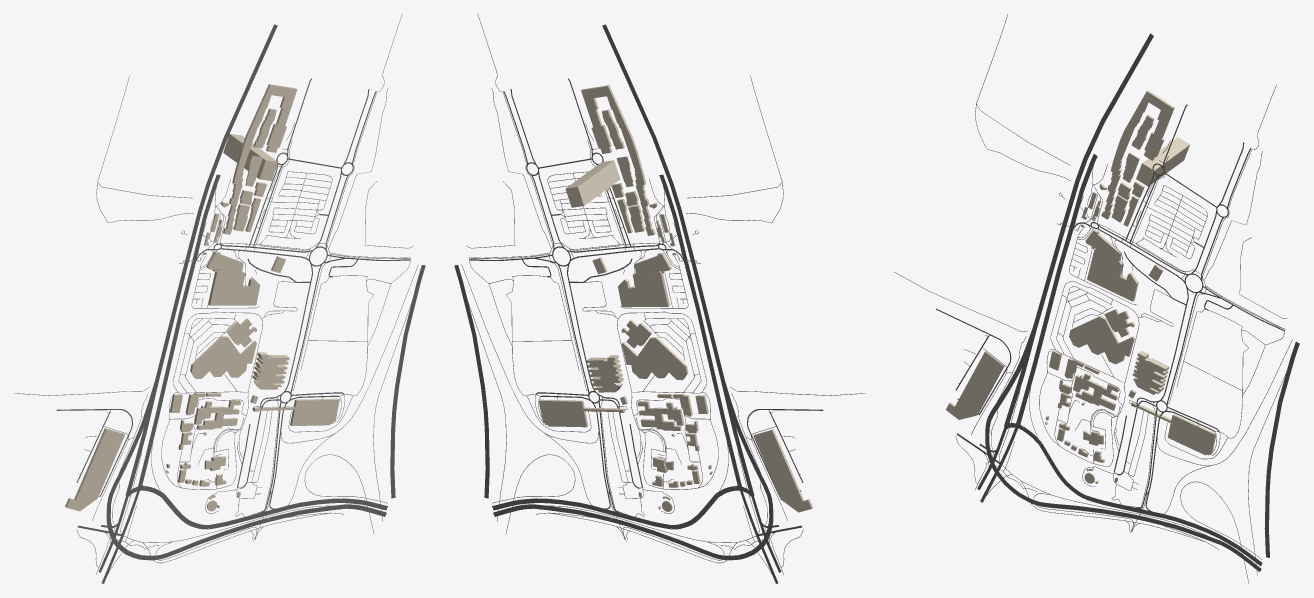
Rendered from historic-palestine-06_27_3480_3214.glb.
The picture shows the model from 3 angles, left to right: view 1: azimuth 30°, elevation 25°; view 2: azimuth 150°, elevation 25°; view 3: azimuth 330°, elevation 25°; orthographic projection.
Parts seen in each view (by area): view 1: Building_.042, Building_, Building_.009, Building_.016, Building_.001, Road איילון דרום, Building_.040, Road דרך תל-אביב.007, Building_.041, Building_.031, Road 5.011, Road 5.009 (+1 smaller); view 2: Building_.042, Building_, Building_.009, Building_.041, Building_.016, Building_.001, Road איילון דרום, Building_.040, Road דרך תל-אביב.007, Building_.031, Road 5.011, Road 5.009 (+1 smaller); view 3: Building_.042, Building_, Building_.009, Building_.016, Building_.001, Building_.041, Building_.040, Road איילון דרום, Road דרך תל-אביב.007, Building_.031, Road 5.011, Road 5.009 (+1 smaller).
Part boxes in pixels (x1,y1,x2,y2): Building_.042: (223, 84, 297, 234); Building_: (206, 251, 260, 305); Building_.009: (65, 428, 124, 511); Building_.016: (190, 336, 246, 378); Building_.001: (290, 398, 339, 425); Road איילון דרום: (390, 265, 425, 498); Building_.040: (252, 352, 289, 389); Road דרך תל-אביב.007: (189, 24, 277, 246); Building_.041: (223, 133, 277, 180); Building_.031: (194, 400, 240, 429); Road 5.011: (106, 452, 177, 560); Road 5.009: (209, 498, 362, 529); Building_.042: (581, 85, 655, 235); Building_: (618, 253, 671, 306); Building_.009: (753, 429, 813, 512); Building_.041: (565, 160, 620, 207); Building_.016: (631, 337, 688, 380); Building_.001: (538, 399, 588, 427); Road איילון דרום: (454, 265, 489, 498); Building_.040: (586, 355, 623, 392); Road דרך תל-אביב.007: (602, 24, 690, 246); Building_.031: (637, 401, 684, 430); Road 5.011: (702, 452, 773, 560); Road 5.009: (517, 498, 670, 529); Building_.042: (1101, 90, 1174, 219); Building_: (1085, 229, 1138, 301); Building_.009: (946, 350, 1004, 419); Building_.016: (1069, 316, 1124, 364); Building_.001: (1167, 414, 1216, 455); Building_.041: (1136, 137, 1189, 186); Building_.040: (1132, 350, 1169, 394); Road איילון דרום: (1264, 341, 1299, 557); Road דרך תל-אביב.007: (1066, 33, 1153, 212); Building_.031: (1073, 373, 1118, 410); Road 5.011: (985, 385, 1054, 508); Road 5.009: (1086, 495, 1237, 548).
Bounding box in the file's own units: 1176 × 1459 × 182.
